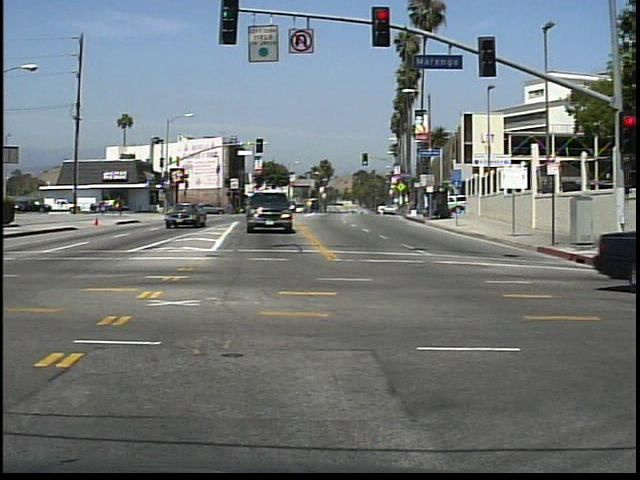person: (114, 192, 130, 221)
